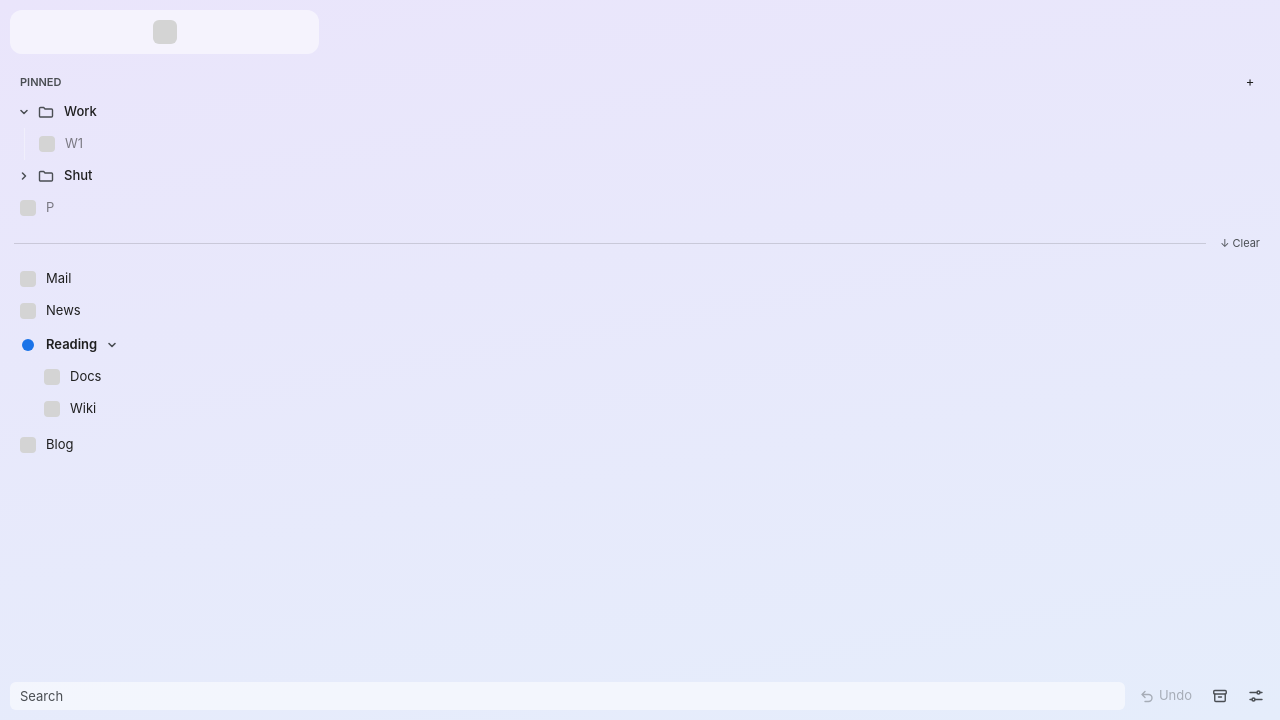
ending the selection › ends with the Deselect button
The width and height of the screenshot is (1280, 720).
Click the button "Mail" at [28, 279], box [10,263,1242,295]
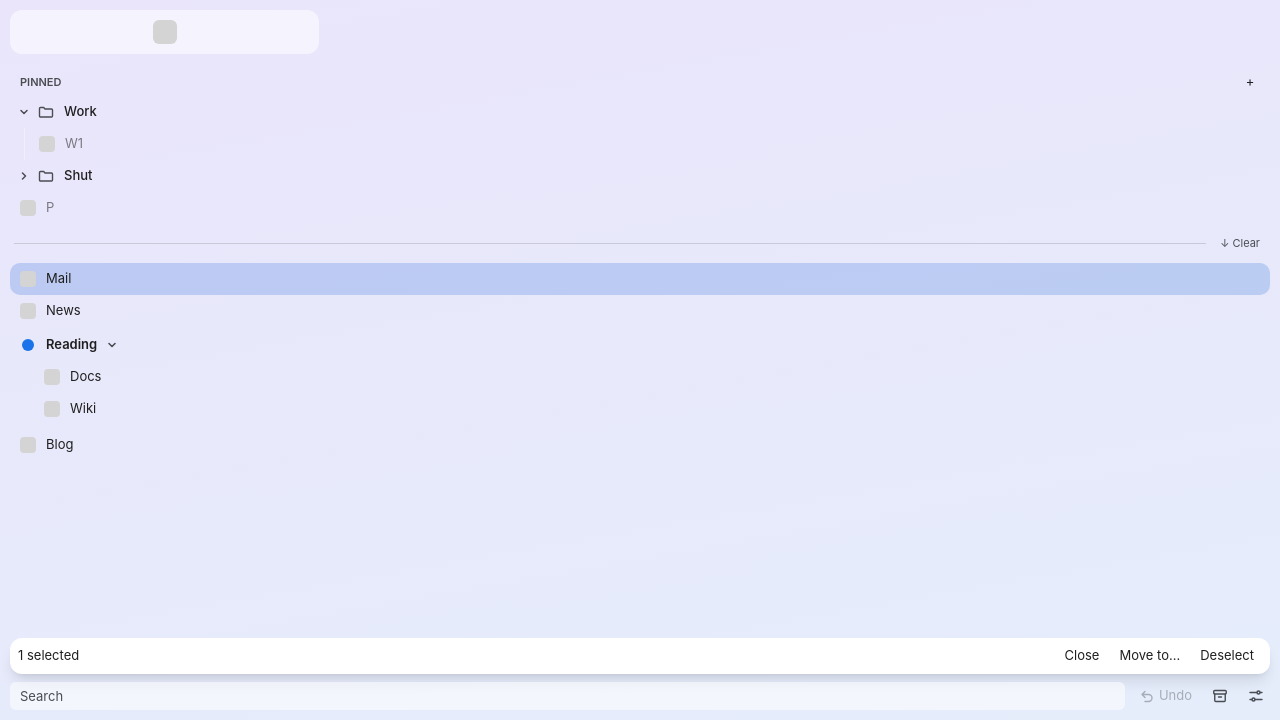
Click the button "Deselect" at [1227, 656], box [1192,642,1262,670]
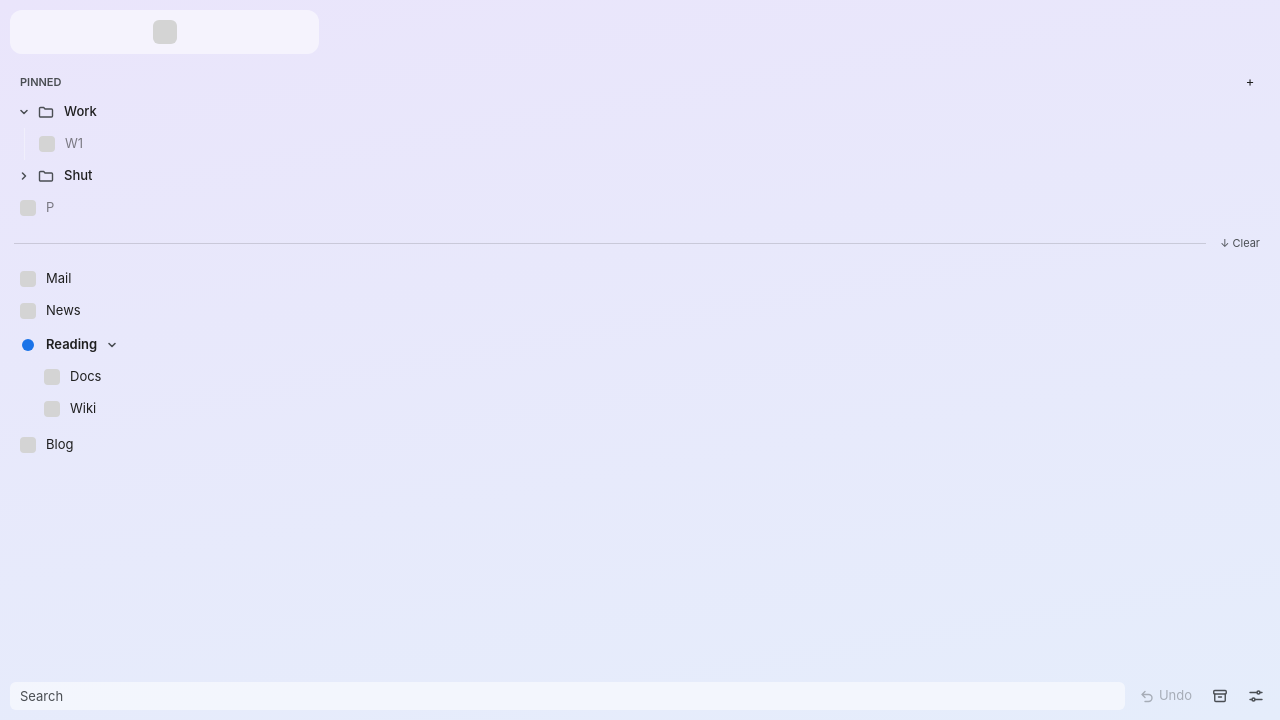
Expected: the message "1 selected" is gone
